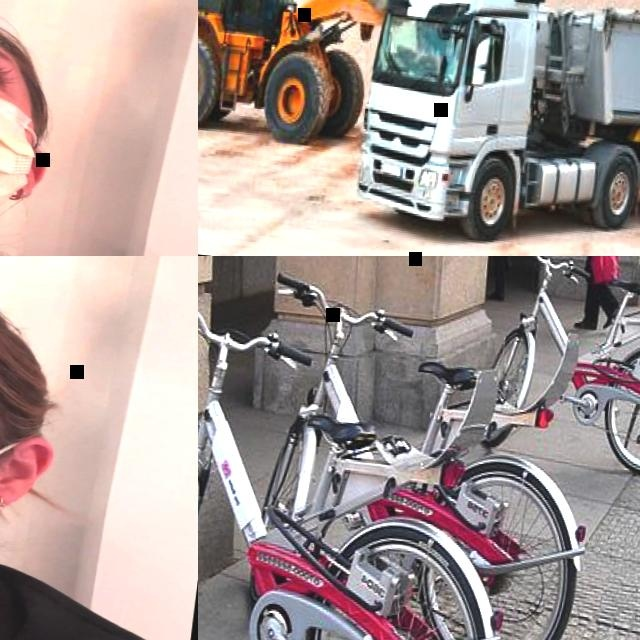Mask: (0, 27, 68, 254)
Person: (0, 256, 198, 640), (0, 0, 198, 256), (568, 256, 640, 332)
machinery: (355, 0, 640, 256), (198, 0, 465, 163)
